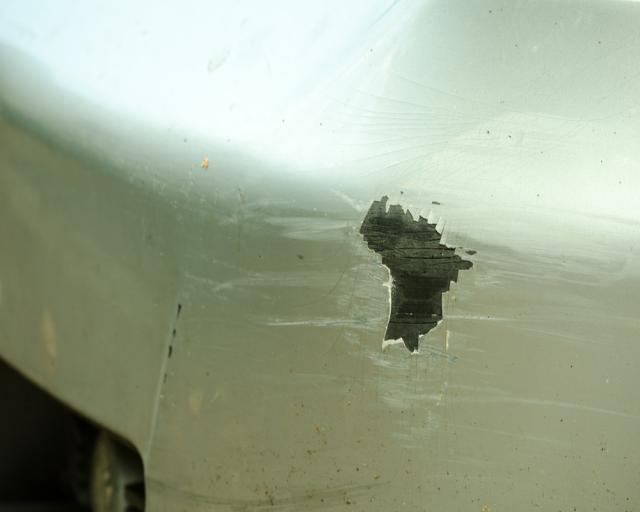scratch: (210, 177, 640, 452)
